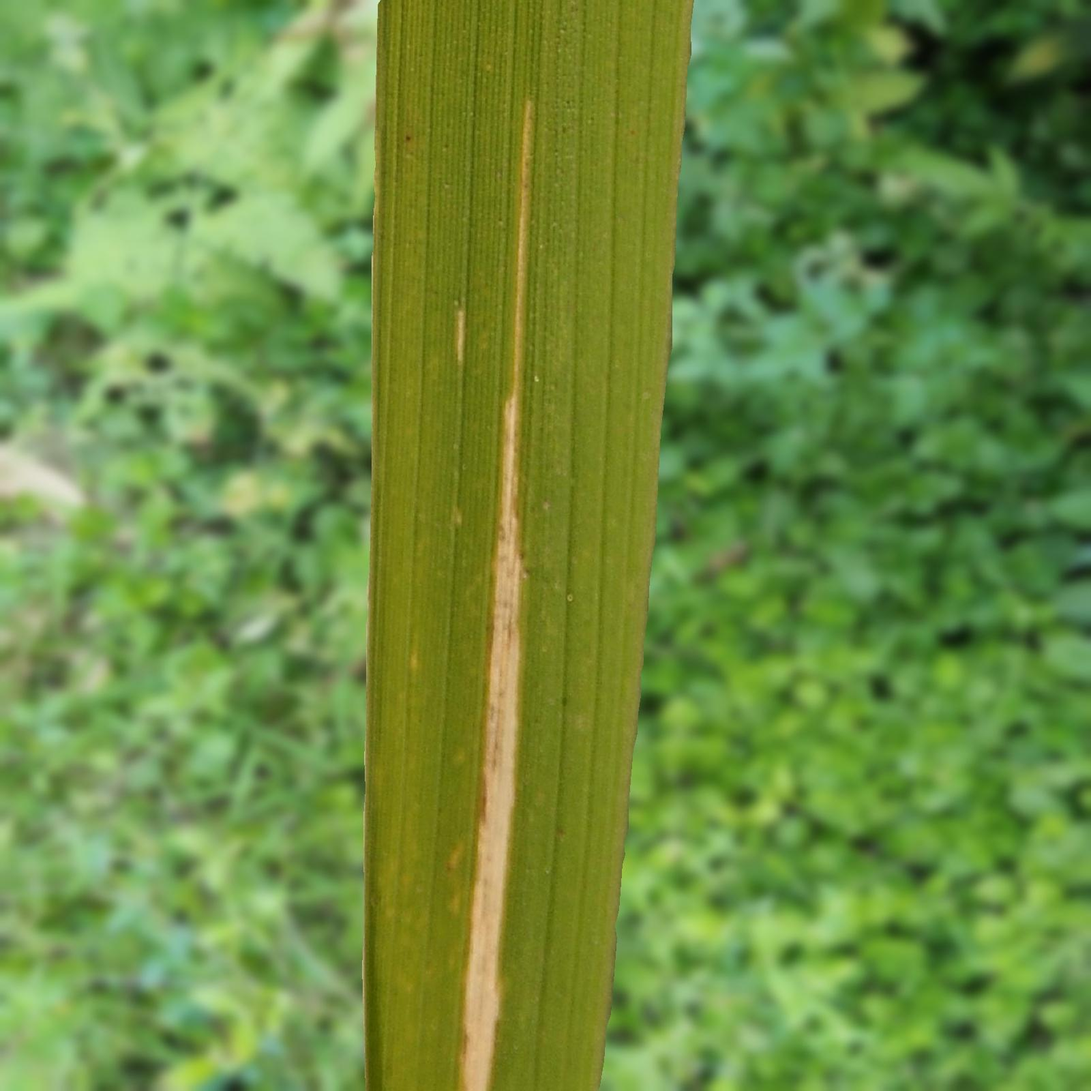BLS: (460, 100, 533, 1090)
LEAF: (362, 0, 693, 1090)
